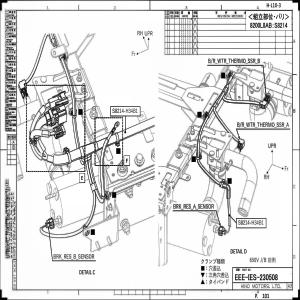PartNumber: (112, 107, 138, 114)
